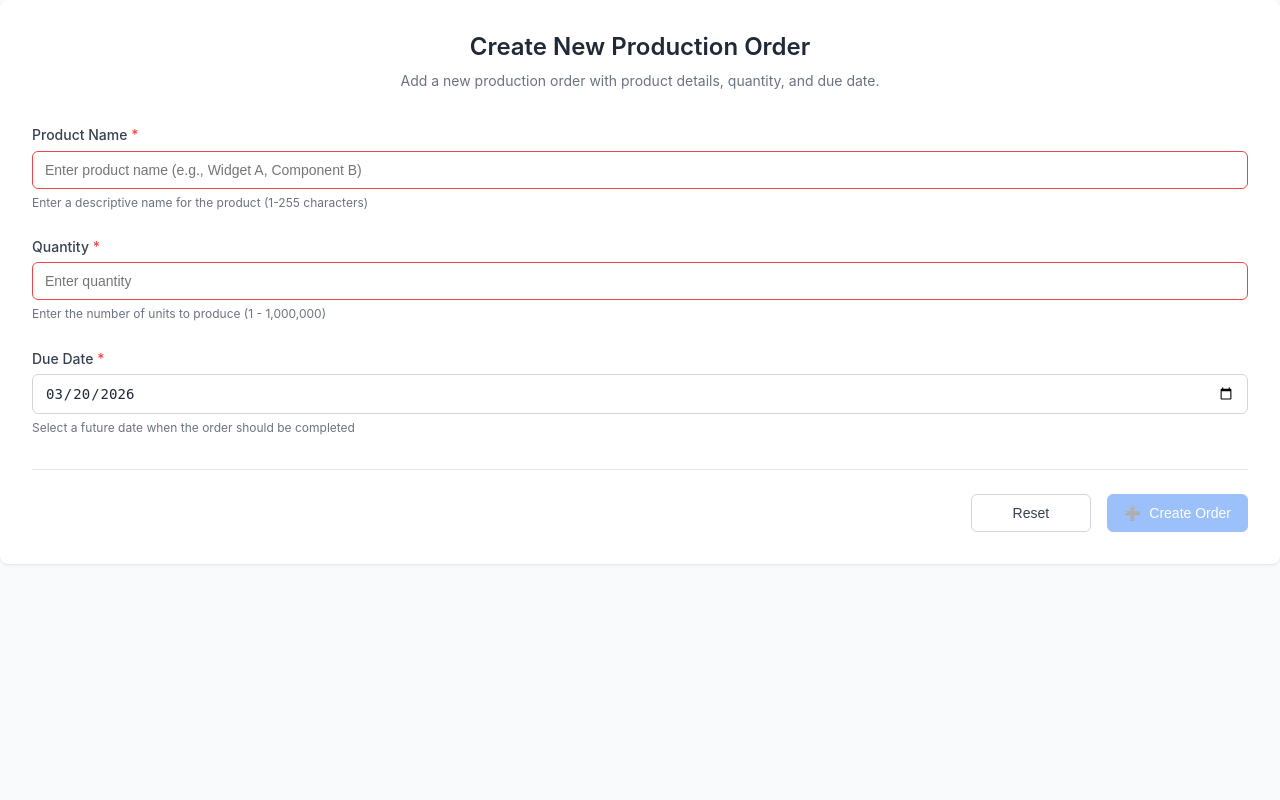
OrderForm › validates quantity range
Test quantity too large
Step 1. Type "1000001" into the number field labelled "Quantity" → (640,281), box [32,262,1248,300]
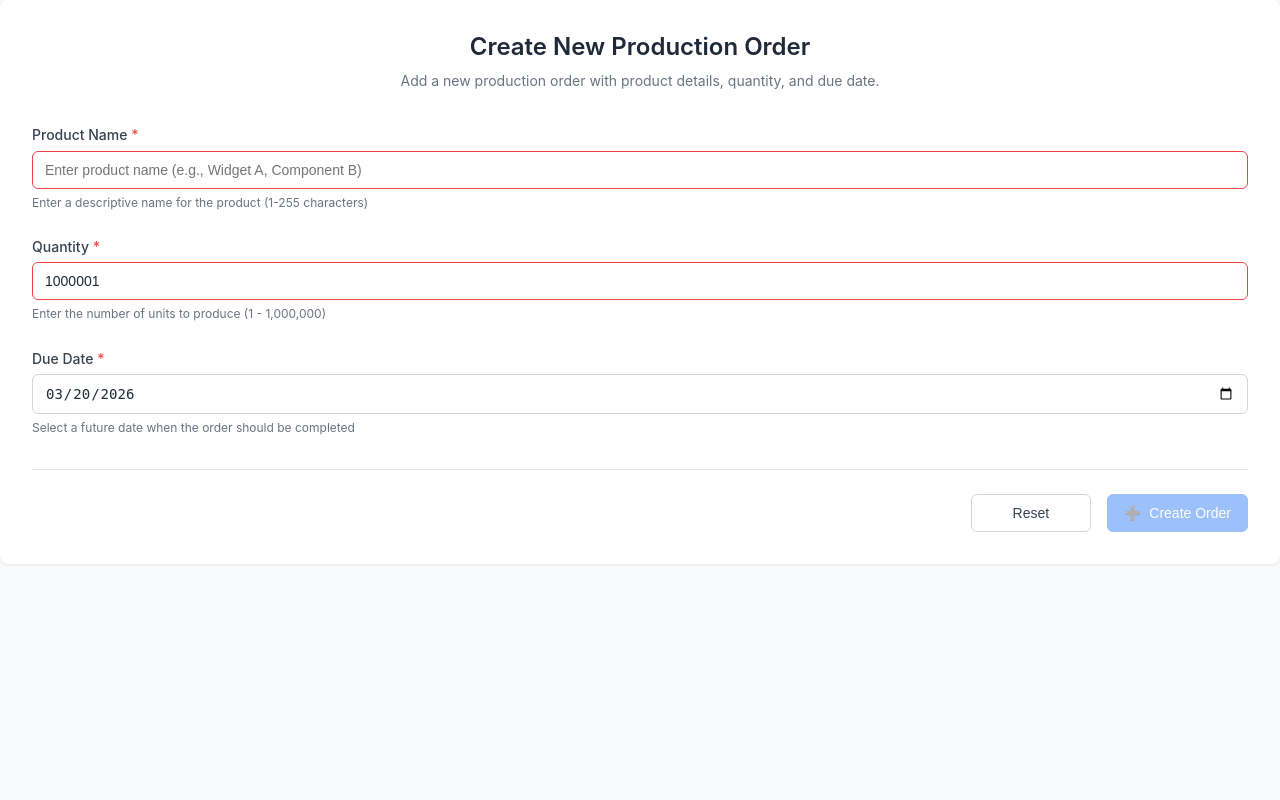
Step 2. Leave the number field labelled "Quantity", box [32,262,1248,300]
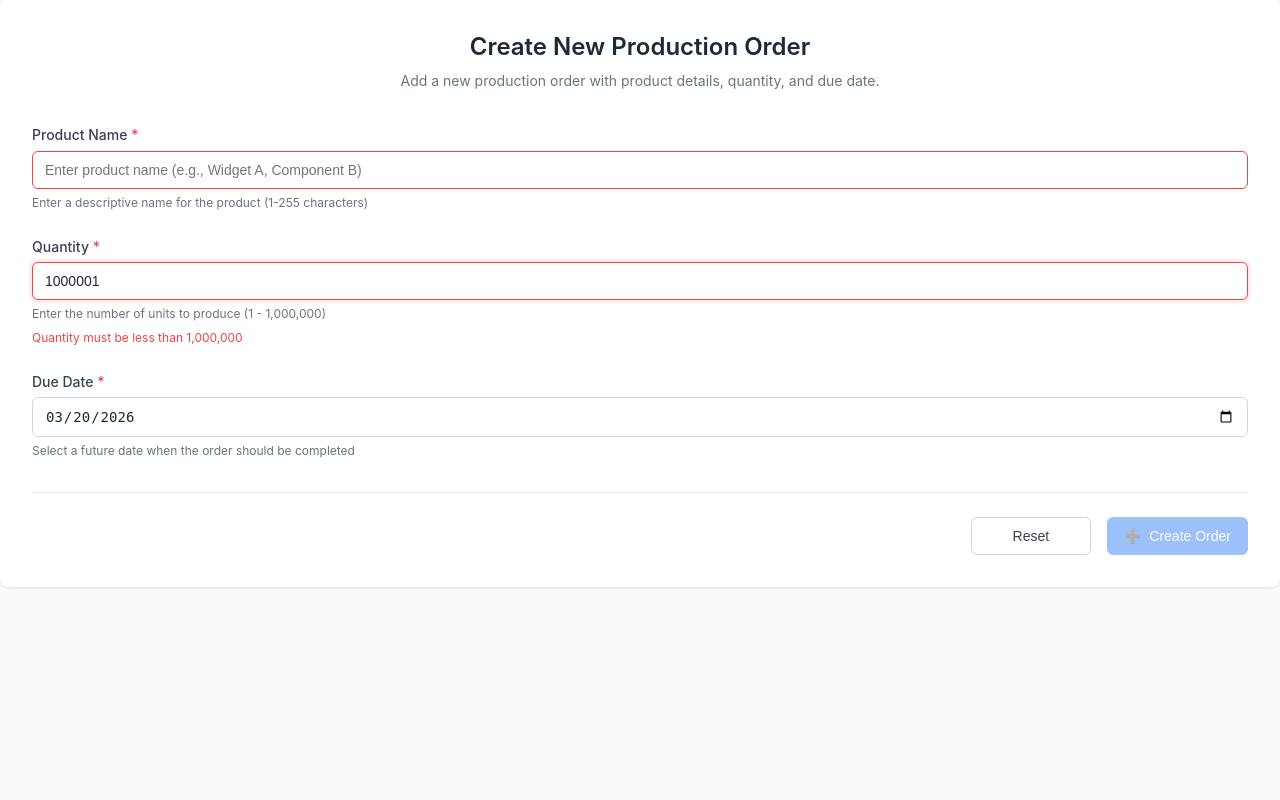
Expected: the message "Quantity must be less than 1,000,000" is shown, [32,330,243,344]
